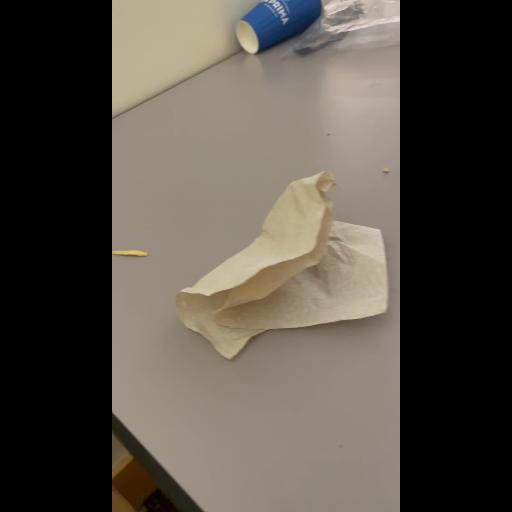lp_paper_cup: (237, 0, 325, 60)
napkin: (170, 172, 386, 358)
